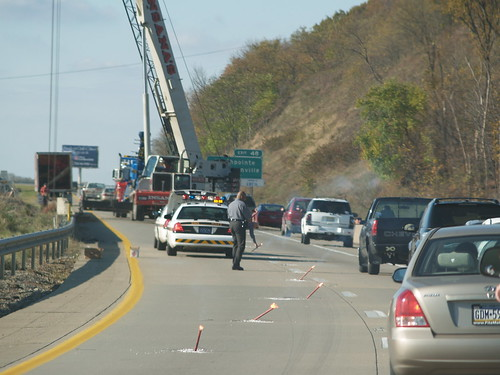car: (386, 225, 500, 375), (349, 190, 434, 269), (299, 196, 359, 249)
crane: (67, 1, 232, 204)
police car: (143, 197, 239, 257)
policeman: (226, 192, 255, 271)
road: (12, 225, 431, 375)
